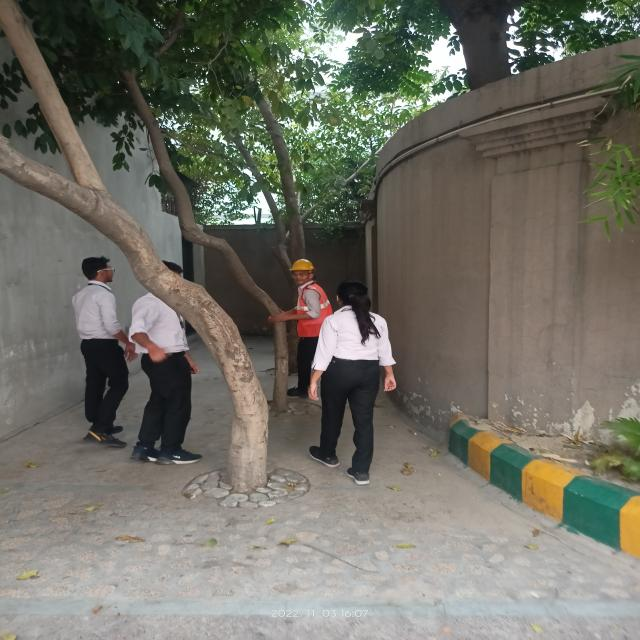safe: (288, 257, 327, 394)
unsafe: (321, 281, 396, 487), (134, 264, 202, 465), (74, 256, 132, 446)
